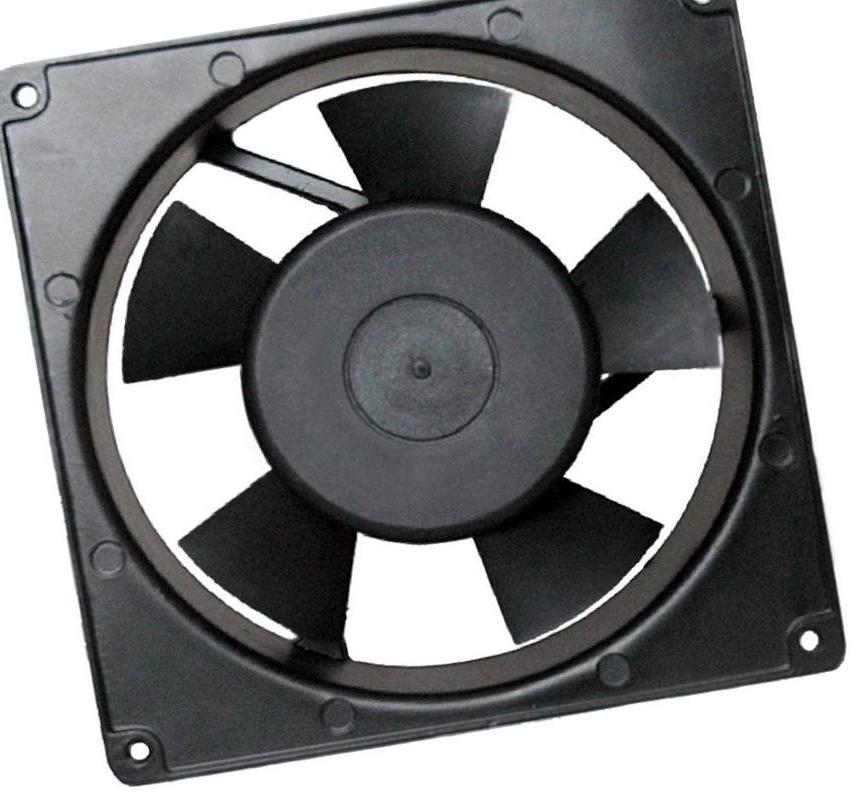fan: (0, 0, 857, 776)
